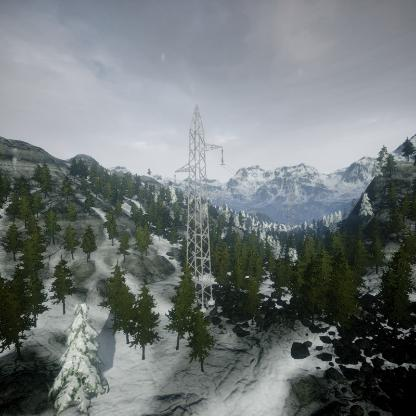tower: (170, 103, 227, 312)
